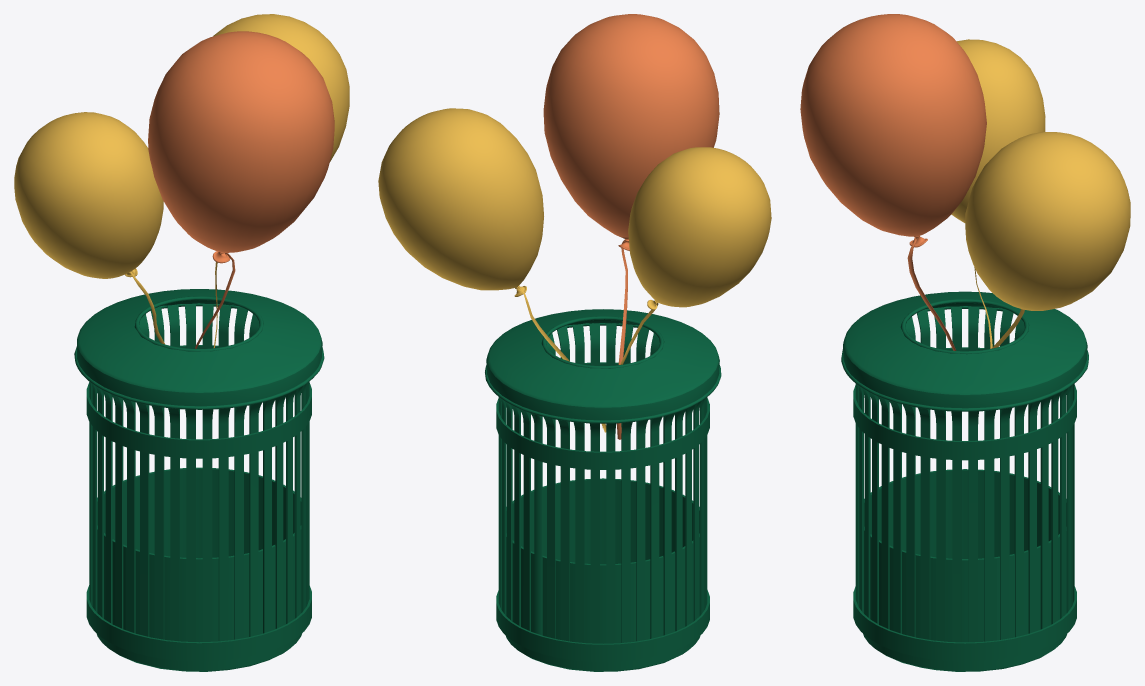
File: trashcan.glb
3 renders of one model, left to right at view 1: azimuth 30°, elevation 25°; view 2: azimuth 150°, elevation 25°; view 3: azimuth 270°, elevation 25°, orthographic. The views are drawn at different scales.
Parts seen in each view (by area): view 1: SM_TrashCan01_LOD1.001; view 2: SM_TrashCan01_LOD1.001; view 3: SM_TrashCan01_LOD1.001.
Boxes of the visible parts, x1,y1,x2,y2 form: SM_TrashCan01_LOD1.001: [14, 14, 349, 671]; SM_TrashCan01_LOD1.001: [378, 14, 771, 671]; SM_TrashCan01_LOD1.001: [800, 14, 1130, 671].
Bounding box in the file's own units: 1.19 × 1.97 × 0.9644.
